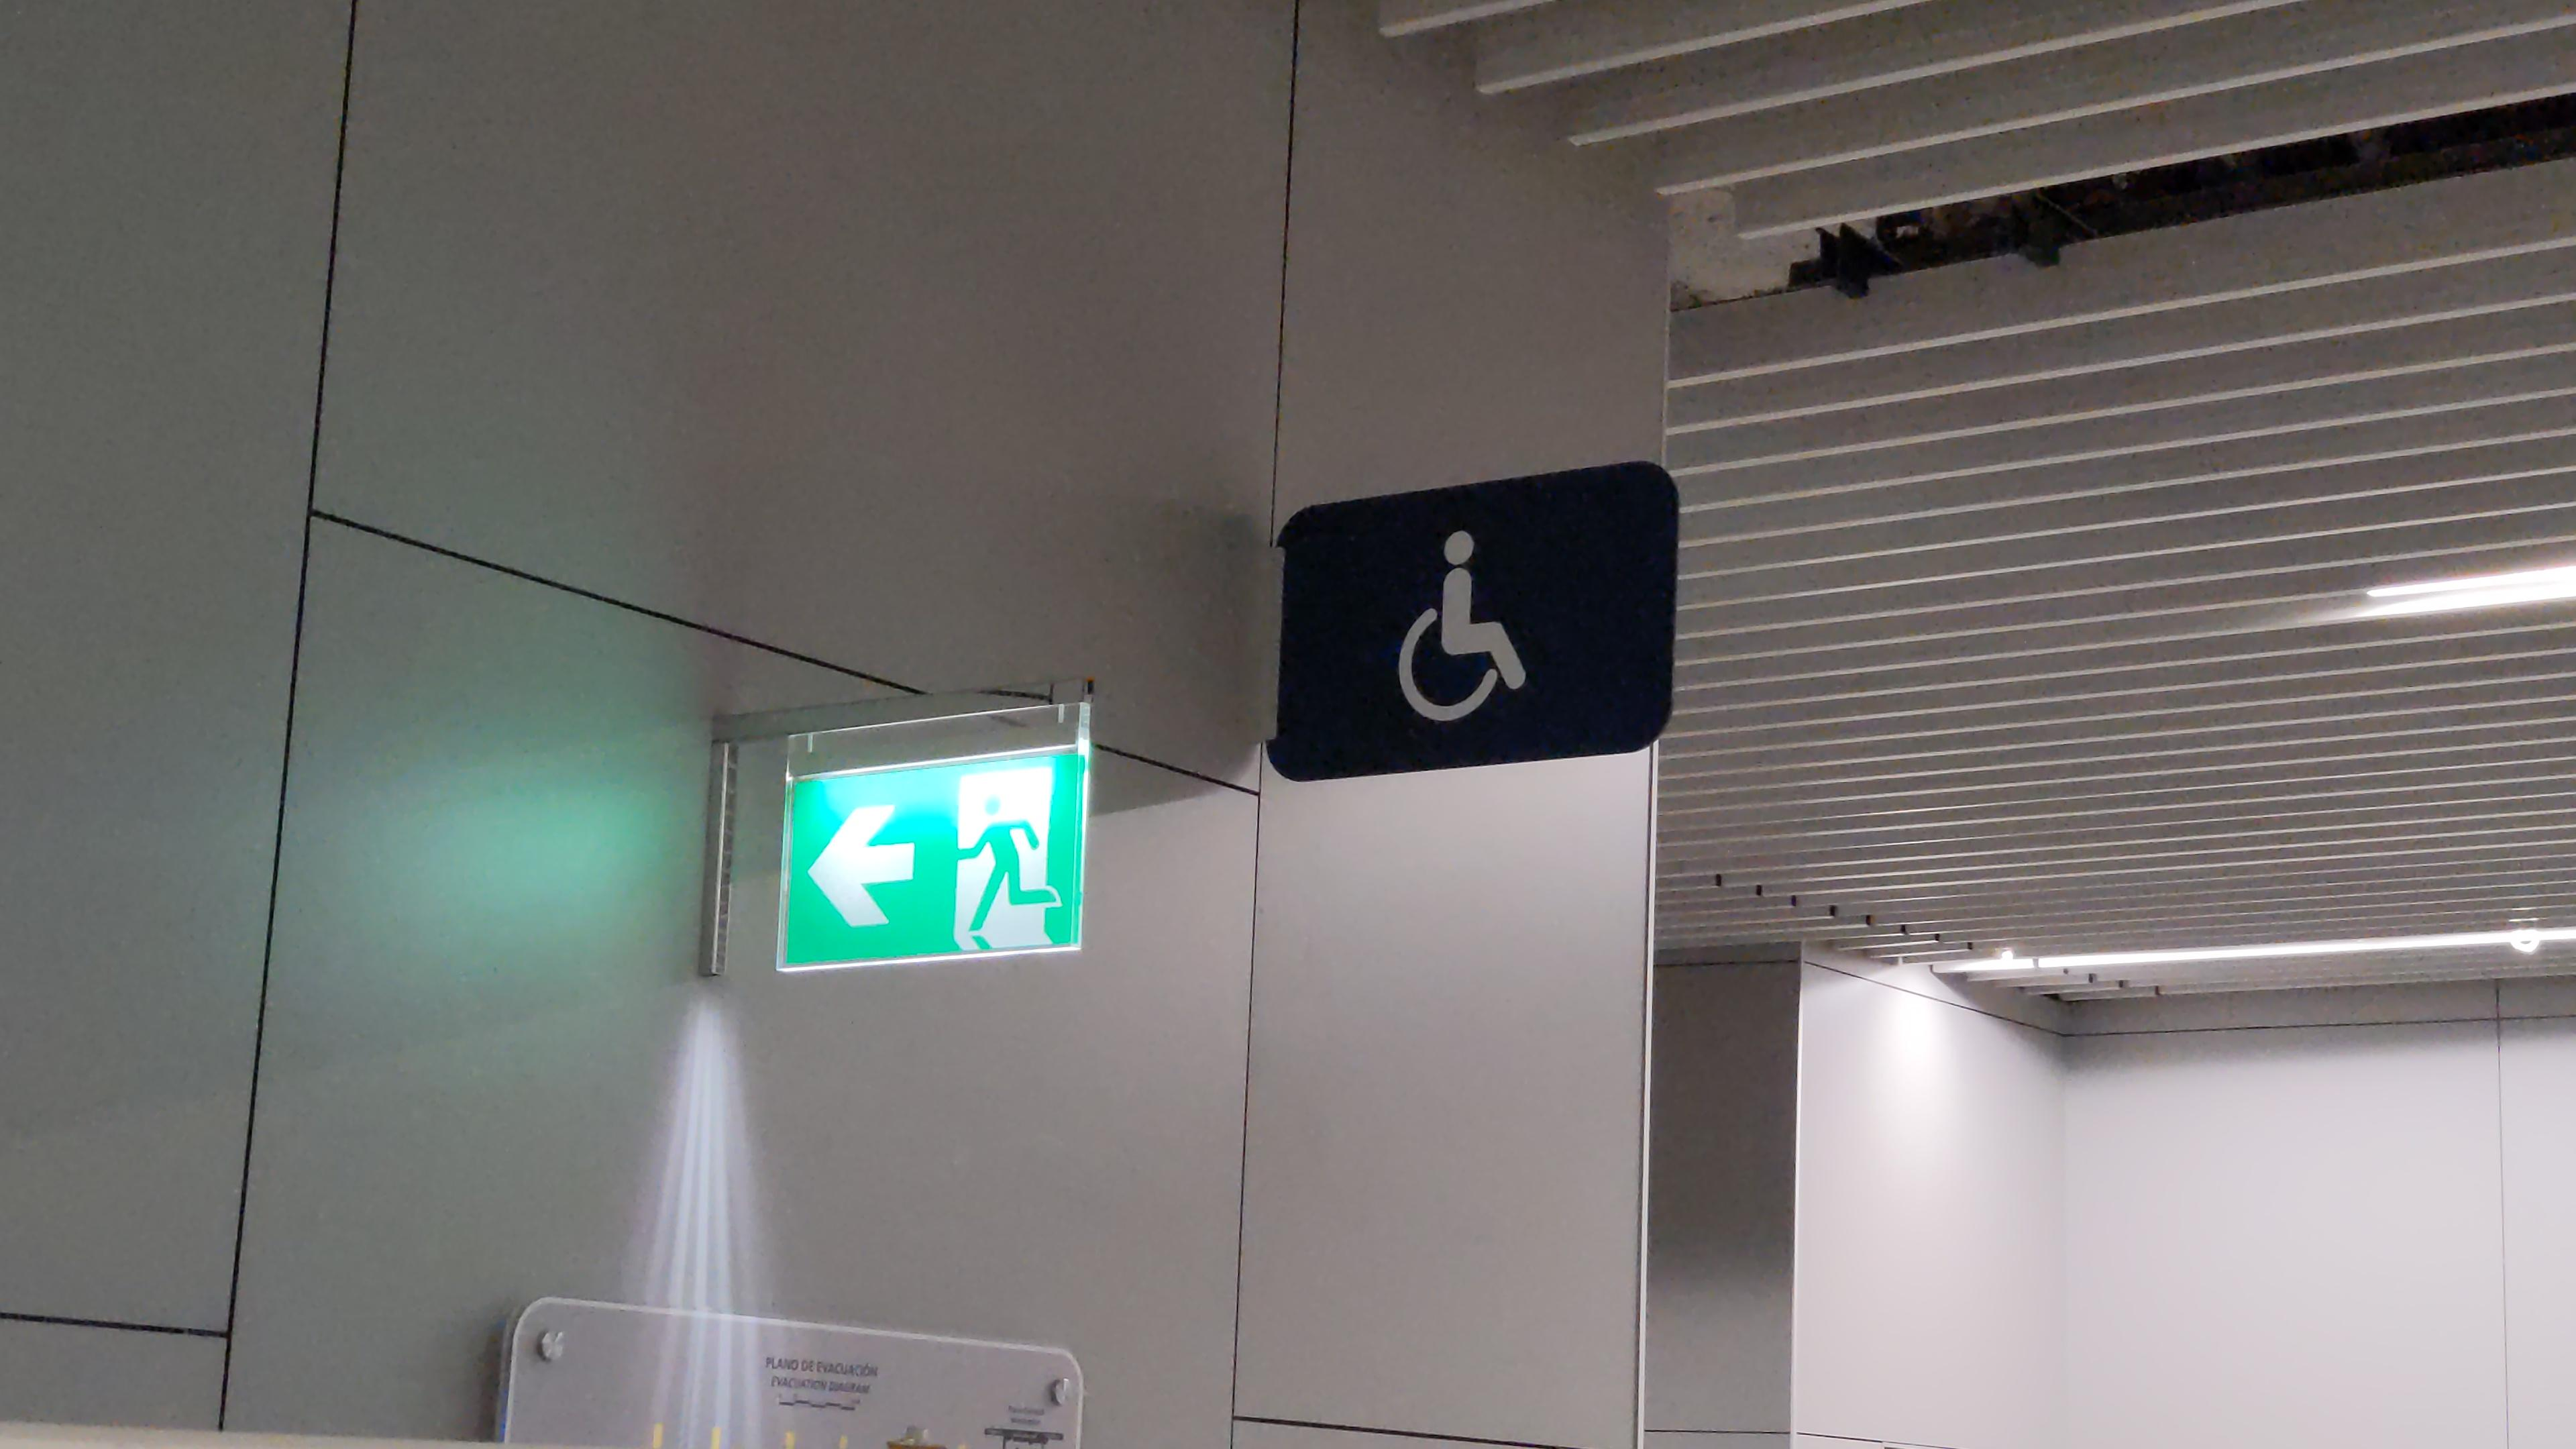emergency exit: (945, 759, 1065, 952)
emergency left arrow: (801, 793, 924, 938)
handicapped symbol: (1391, 522, 1532, 725)
